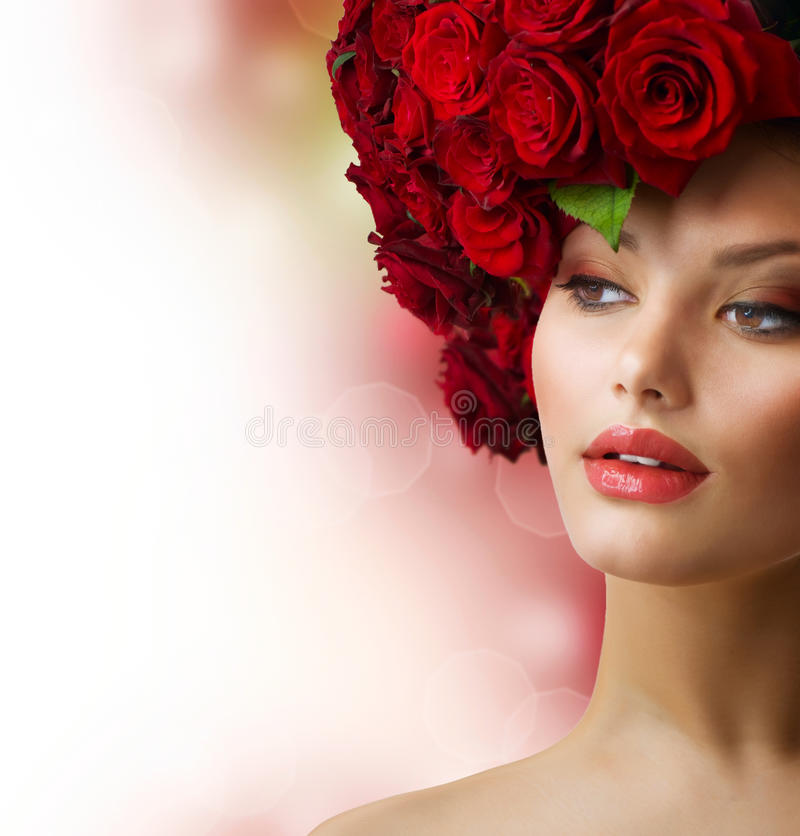RedRose: (597, 1, 800, 193), (481, 45, 617, 180), (422, 92, 524, 204), (396, 9, 488, 118)
